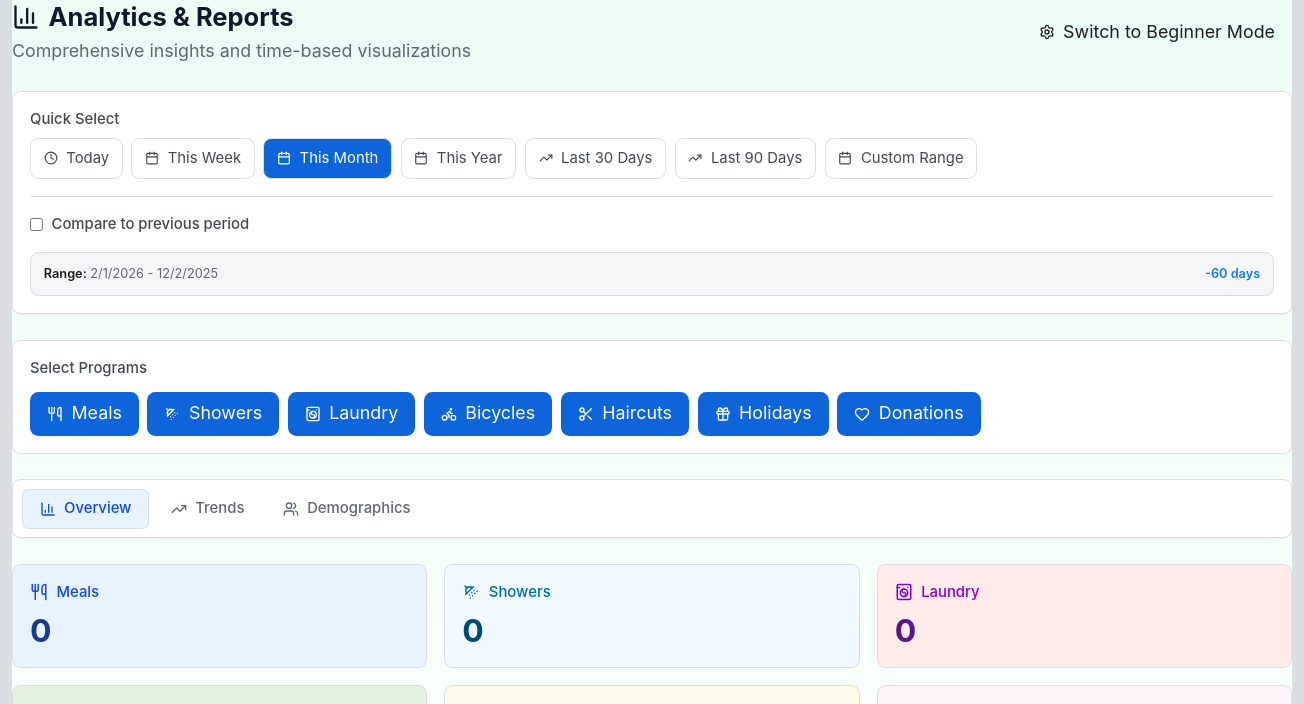
Analytics - Filter Functionality › Demographics Tab Filter Integration › should show empty state when no guests match filters
This screenshot has width=1304, height=704.
// Navigate to Demographics tab
Click the button "Demographics": (347, 509) [266,488,428,529]
(page scrolled)
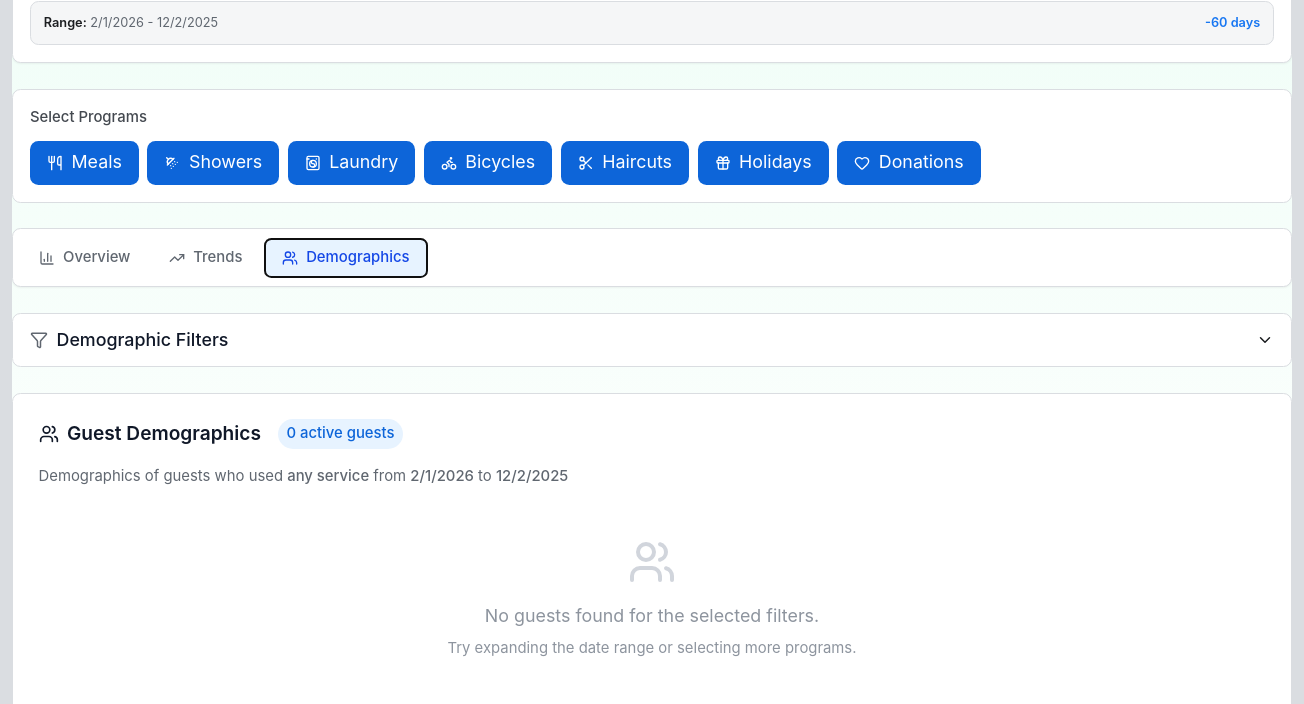
Result: the text "No guests found for the selected filters." is shown at [485,605,819,626]
